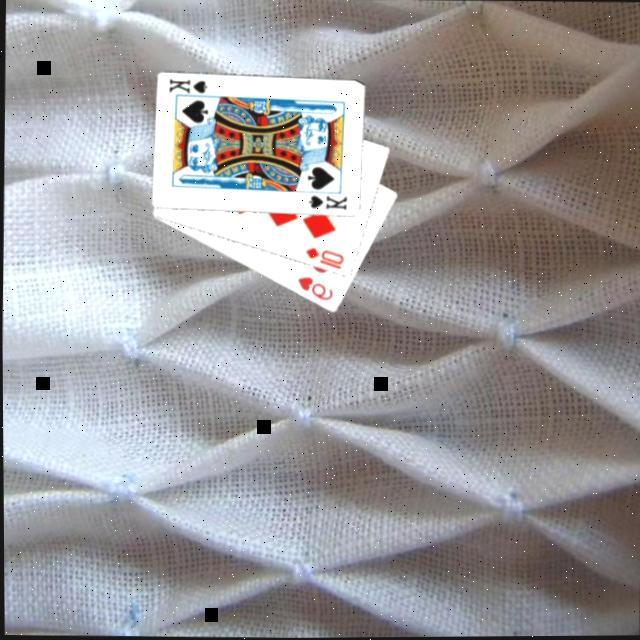10D: (300, 242, 344, 271)
6H: (292, 271, 335, 302)
KS: (165, 73, 212, 98), (304, 190, 348, 211)
